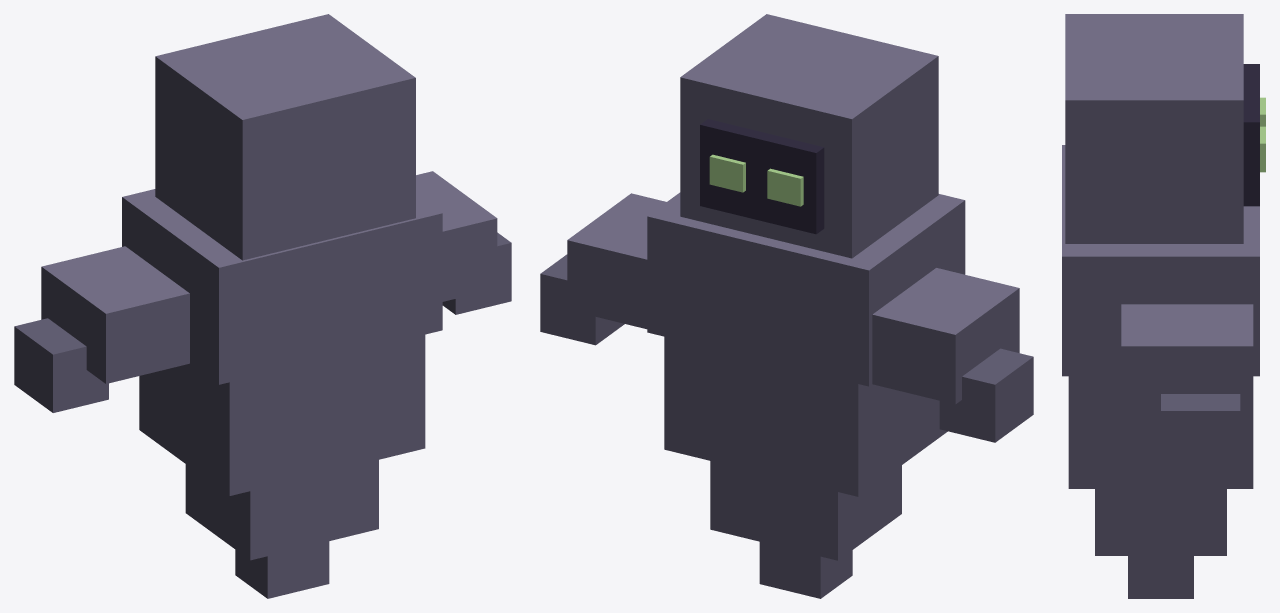
File: enemy_wraith.glb
3 views of the same model, side by side, from view 1: azimuth 30°, elevation 25°; view 2: azimuth 150°, elevation 25°; view 3: azimuth 270°, elevation 25° (orthographic). The views are drawn at different scales.
Visible parts, largest first — view 1: mesh0; view 2: mesh0; view 3: mesh0.
Part boxes in pixels (box(x1,y1,x2,y2)): mesh0: box(14, 14, 511, 598); mesh0: box(540, 14, 1033, 598); mesh0: box(1062, 14, 1265, 598).
Bounding box in the file's own units: 0.82 × 0.88 × 0.309.
